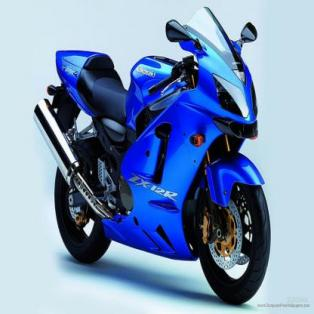Motocicleta: (34, 0, 271, 312)
